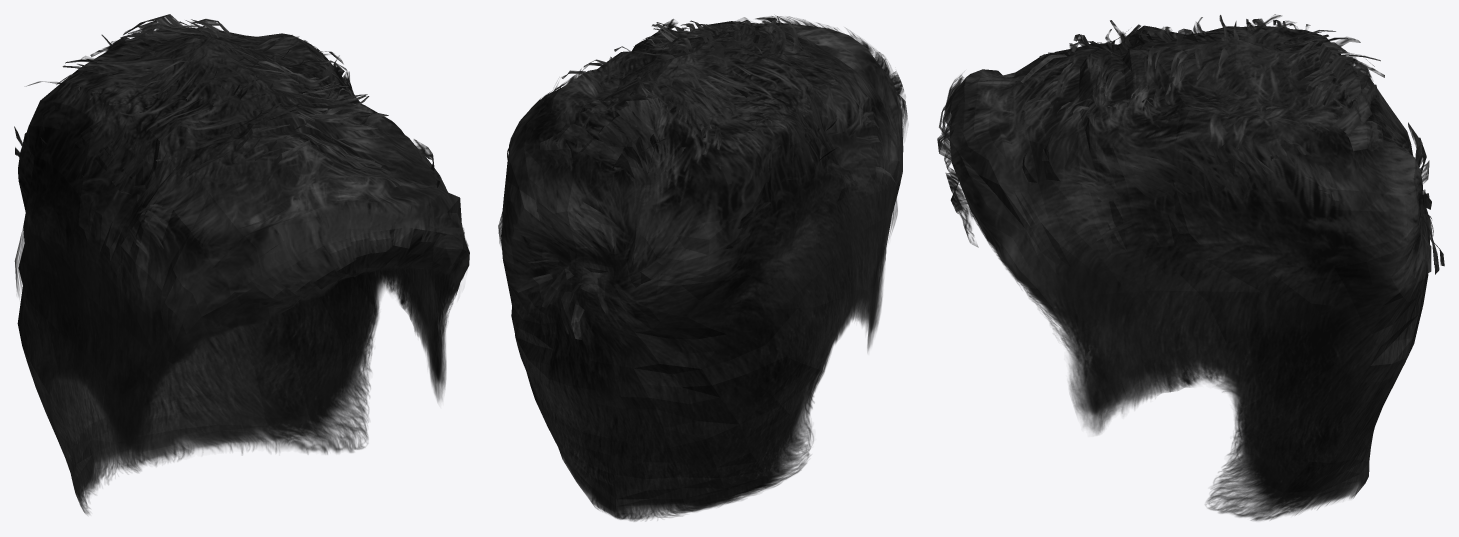
File: short-cc0.glb
3 renders of one model, left to right at view 1: azimuth 30°, elevation 25°; view 2: azimuth 150°, elevation 25°; view 3: azimuth 270°, elevation 25°, orthographic. The views are drawn at different scales.
Visible parts, largest first — view 1: Node; view 2: Node; view 3: Node.
Boxes of the visible parts, x1,y1,x2,y2 form: Node: (14,14,469,514); Node: (498,15,908,521); Node: (937,14,1444,520).
Size of the model in its own units: 1.57 by 2.08 by 2.11.
1 material, 1 textured.
